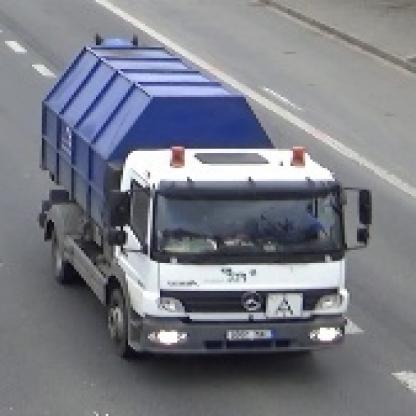truck: (33, 29, 370, 374)
